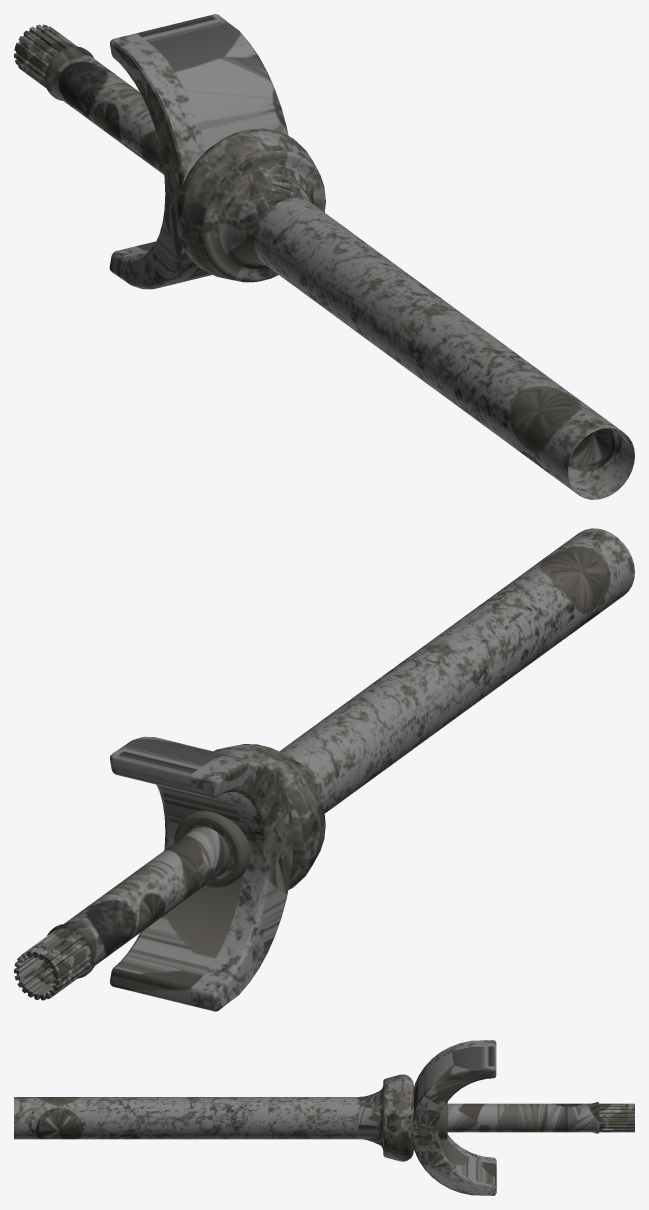
File: Waffe_End.obj
The picture shows the model from 3 angles, top to bottom: view 1: azimuth 30°, elevation 25°; view 2: azimuth 150°, elevation 25°; view 3: azimuth 270°, elevation 25°; orthographic projection. The views are drawn at different scales.
Parts seen in each view (by area): view 1: X_Waffe_End_t-65.030; view 2: X_Waffe_End_t-65.030; view 3: X_Waffe_End_t-65.030.
Boxes of the visible parts, x1,y1,x2,y2 form: X_Waffe_End_t-65.030: [14, 14, 634, 499]; X_Waffe_End_t-65.030: [14, 528, 634, 1011]; X_Waffe_End_t-65.030: [14, 1040, 634, 1195].
Bounding box in the file's own units: 0.1993 × 0.3214 × 1.41.
1 material, 1 textured.
